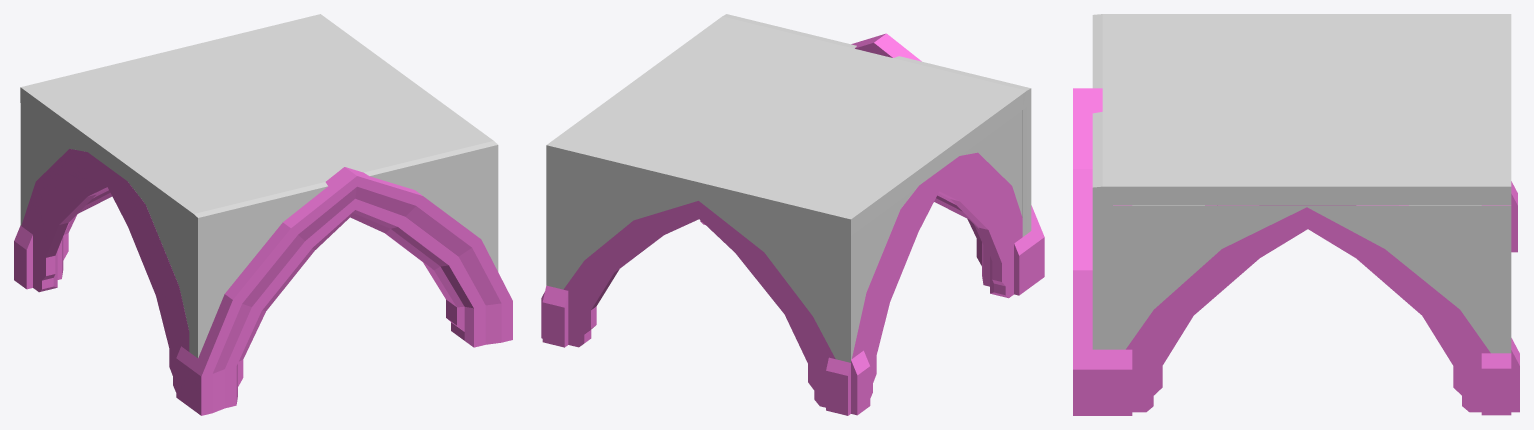
File: SM_Arcade_Middle_Fantasy.fbx
3 renders of one model, left to right at view 1: azimuth 30°, elevation 25°; view 2: azimuth 150°, elevation 25°; view 3: azimuth 270°, elevation 25°, orthographic. The views are drawn at different scales.
Visible parts, largest first — view 1: SM_Arcade_Middle_Fantasy; view 2: SM_Arcade_Middle_Fantasy; view 3: SM_Arcade_Middle_Fantasy.
Part boxes in pixels (left/top/right/bottom): SM_Arcade_Middle_Fantasy: left=14, top=14, right=512, bottom=415; SM_Arcade_Middle_Fantasy: left=541, top=14, right=1044, bottom=415; SM_Arcade_Middle_Fantasy: left=1073, top=14, right=1519, bottom=415.
Bounding box in the file's own units: 4.17 × 2.57 × 4.37.
